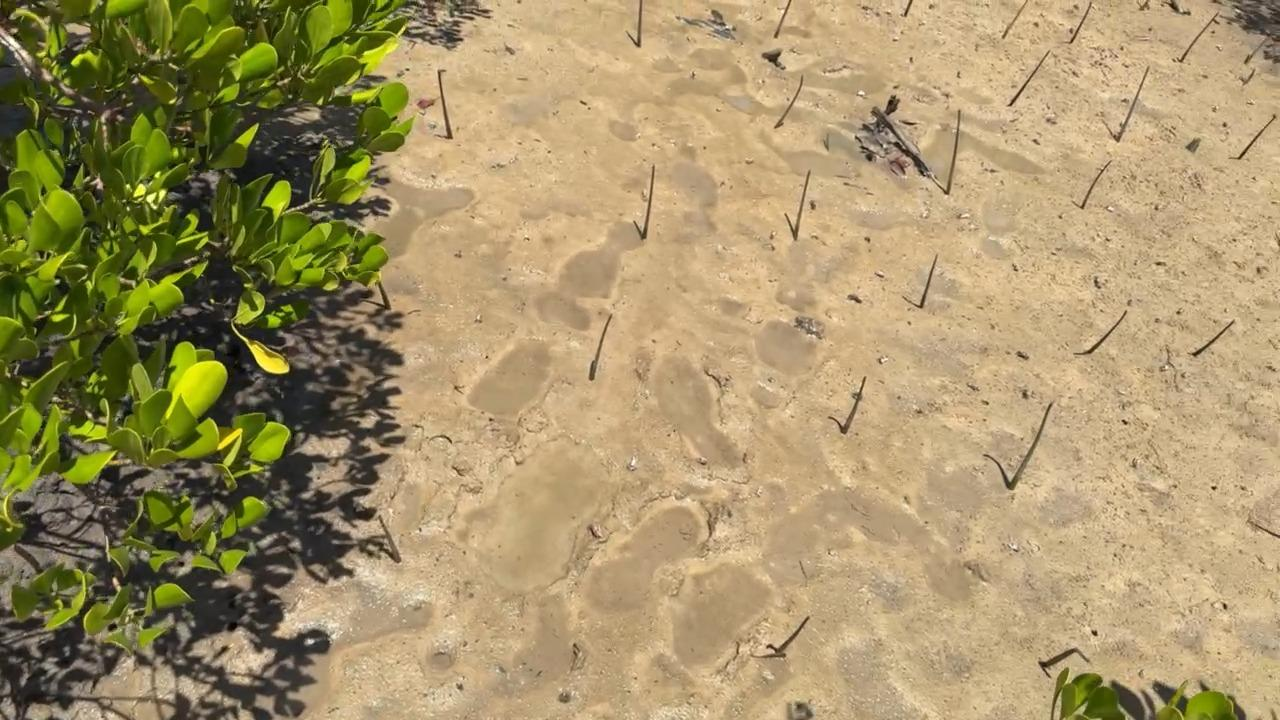Tree: (1009, 403, 1052, 491), (1115, 69, 1150, 141), (1009, 50, 1049, 106), (1180, 13, 1217, 62), (1087, 310, 1127, 355), (773, 75, 804, 129), (1191, 320, 1234, 355), (591, 315, 613, 380), (1081, 162, 1112, 208), (1239, 117, 1274, 157), (775, 613, 810, 653), (945, 109, 961, 193), (843, 377, 866, 435), (378, 514, 402, 564), (1039, 647, 1091, 670), (795, 169, 811, 241), (437, 69, 452, 140), (1003, 0, 1030, 39), (921, 253, 938, 308), (643, 165, 655, 238), (1072, 3, 1092, 44), (1247, 35, 1273, 64), (774, 0, 791, 38), (375, 279, 390, 307), (636, 0, 643, 47), (904, 0, 913, 16)
